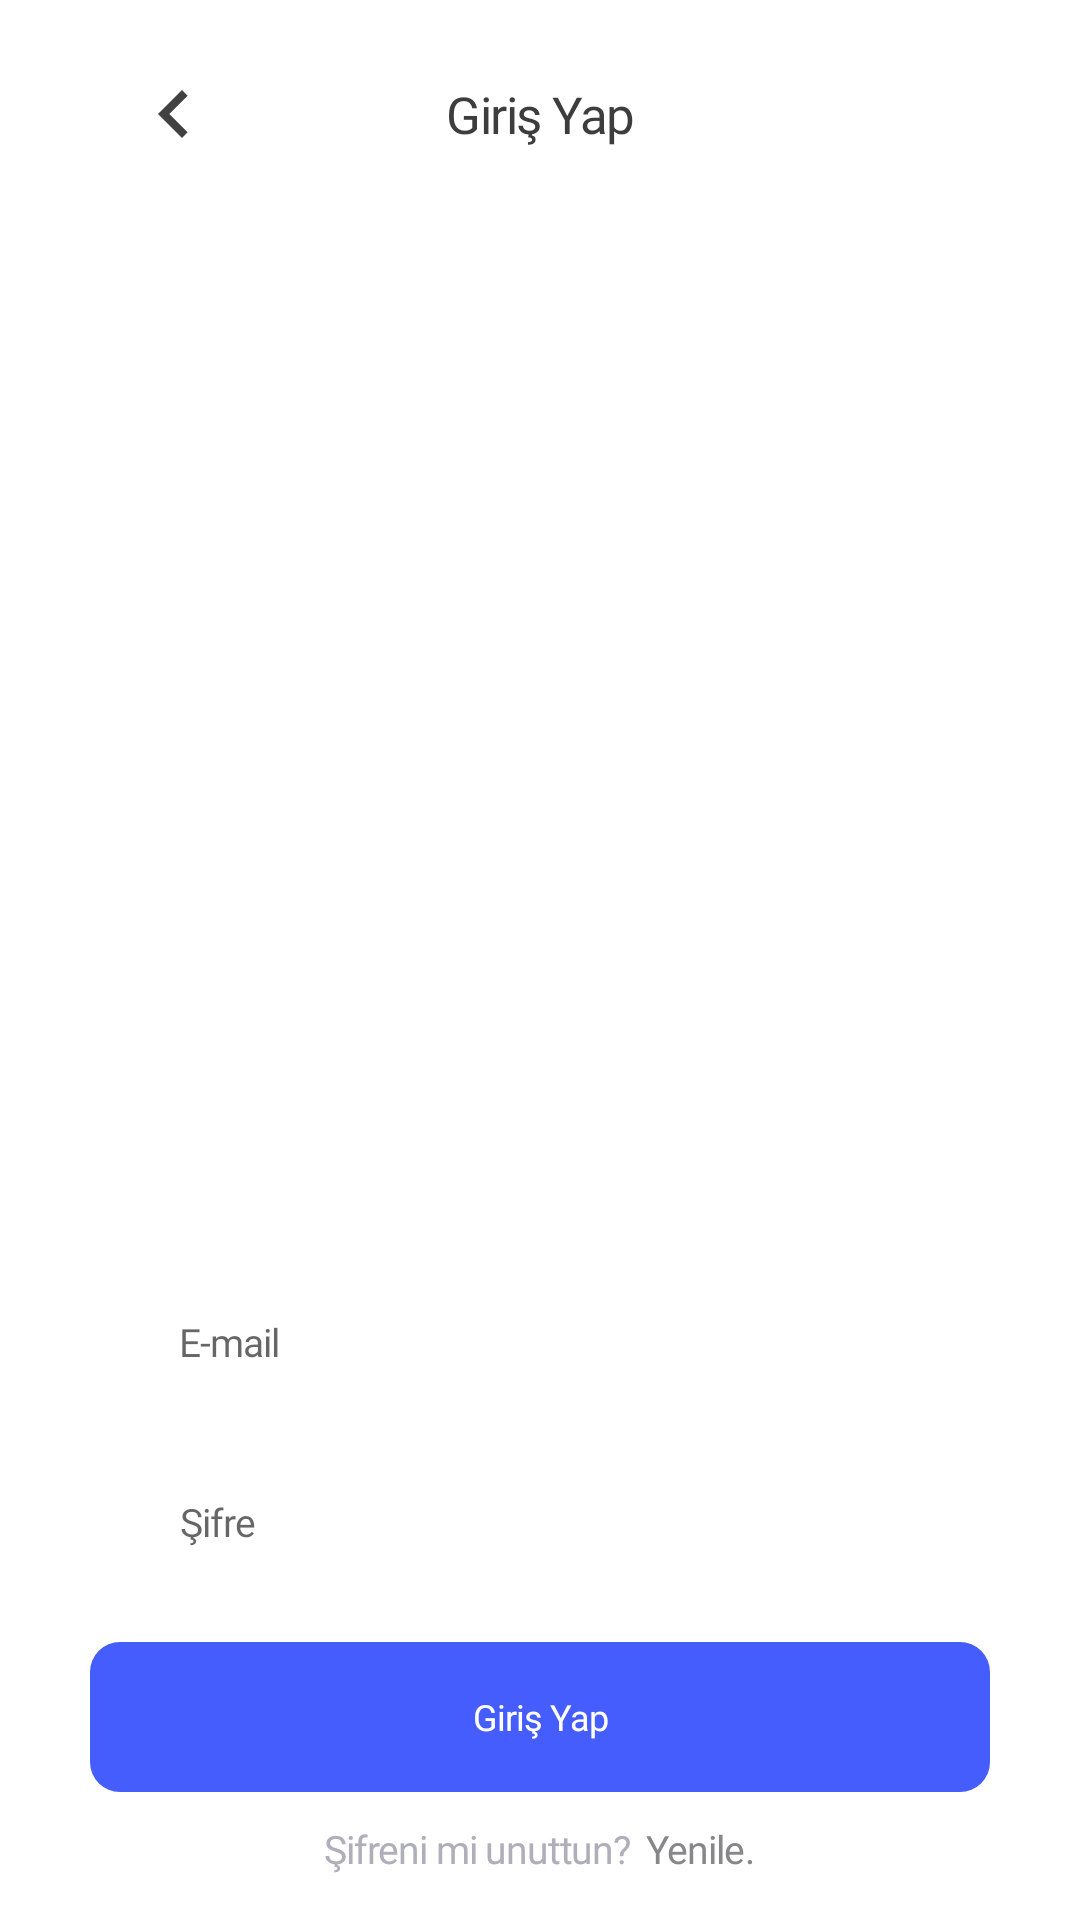

Screen size 1080 x 1920. Icon name, then its box in pixels as detection(x1, y1, x2, y2):
chevron left: detection(158, 90, 188, 138)
